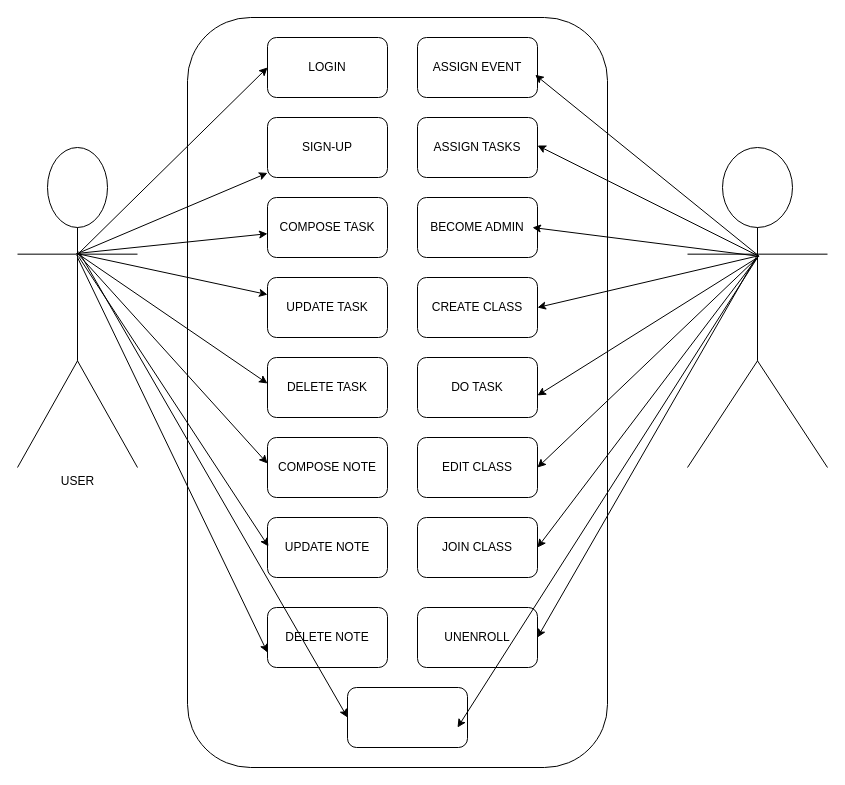
Some shapes in this 845 by 785 pixel diagram are drawn without their labels. The shapes that lost their labels are listed below. From the top down, each one's centre as x and y in pixels, then its label:
At point (757, 307): "ADMIN".
At point (407, 717): "VIEW PERFORMANCE".
